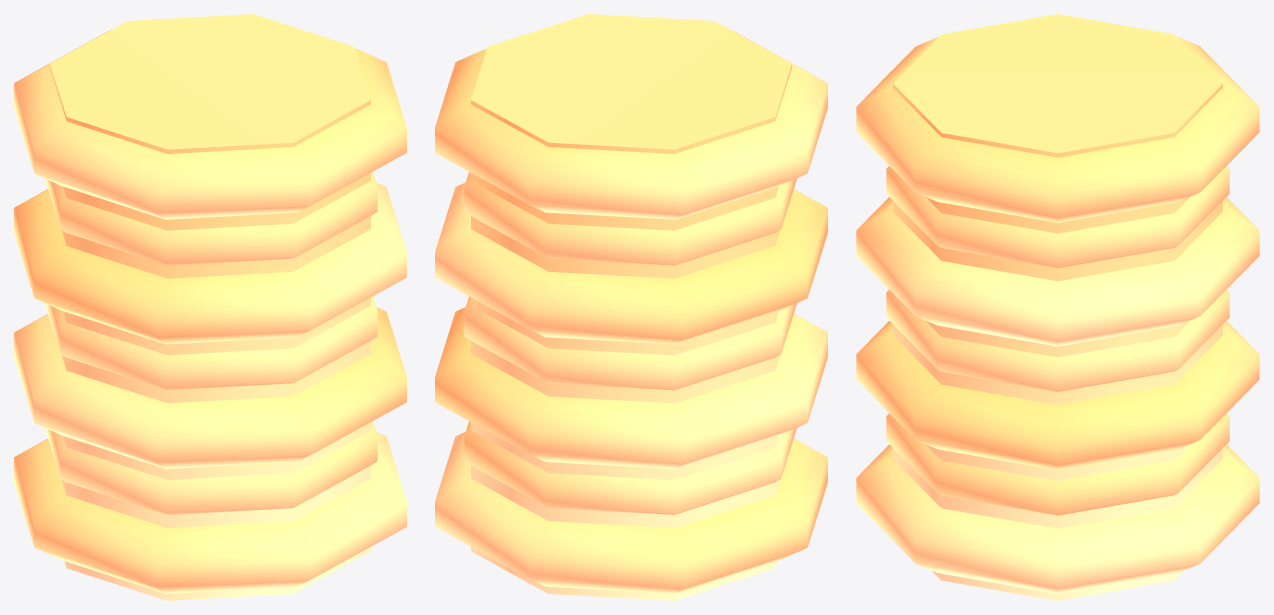
File: wood_grip_094_004.glb
3 renders of one model, left to right at view 1: azimuth 30°, elevation 25°; view 2: azimuth 150°, elevation 25°; view 3: azimuth 270°, elevation 25°, orthographic.
Visible parts, largest first — view 1: wood_grip_094.004; view 2: wood_grip_094.004; view 3: wood_grip_094.004.
Boxes of the visible parts, <box> form: wood_grip_094.004: <box>14,14,406,600</box>; wood_grip_094.004: <box>435,14,827,600</box>; wood_grip_094.004: <box>856,14,1259,600</box>.
Size of the model in its own units: 2.45 by 3 by 2.45.
Materials: 1 (1 with a texture image).
